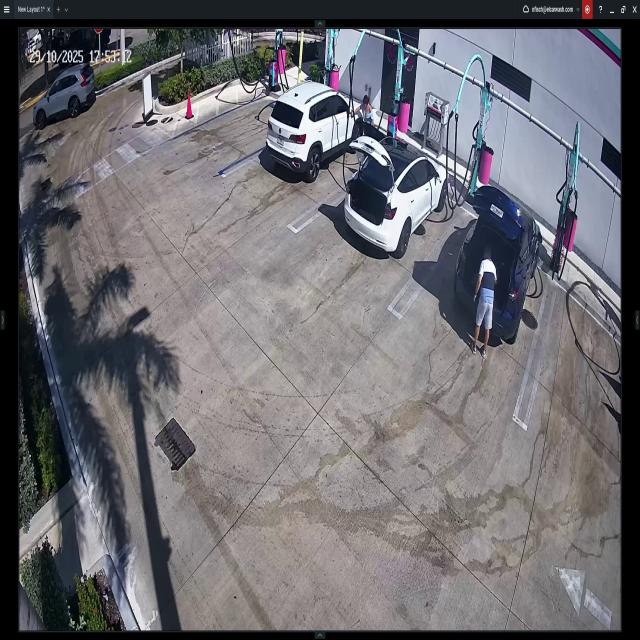Car: (455, 187, 542, 344), (348, 134, 450, 256), (269, 80, 363, 181), (31, 65, 96, 118)
